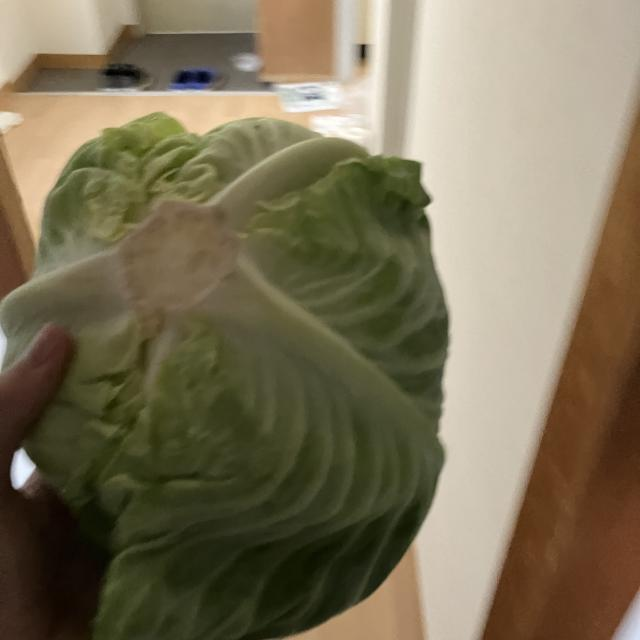cabbage: (0, 108, 453, 640)
